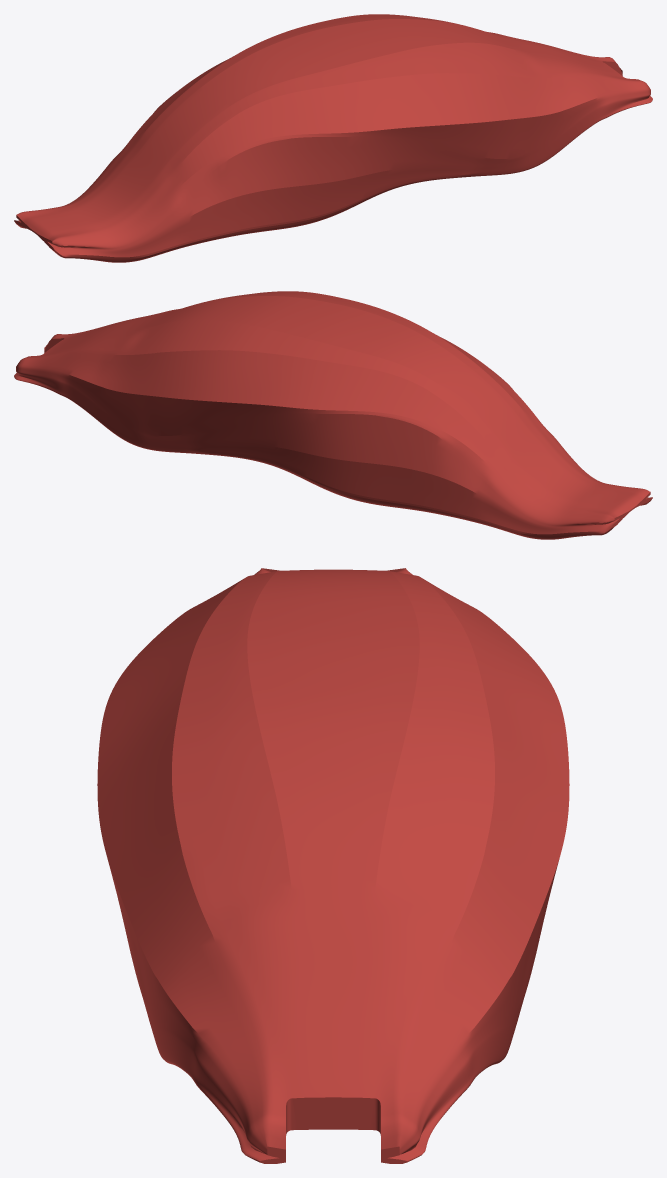
File: sports_tourer_1.glb
3 views of the same model, one above another, from view 1: azimuth 30°, elevation 25°; view 2: azimuth 150°, elevation 25°; view 3: azimuth 270°, elevation 25° (orthographic). The views are drawn at different scales.
Parts seen in each view (by area): view 1: sports_tourer_1; view 2: sports_tourer_1; view 3: sports_tourer_1.
Boxes of the visible parts, <box> form: sports_tourer_1: <box>14,14,652,262</box>; sports_tourer_1: <box>14,291,652,539</box>; sports_tourer_1: <box>97,568,569,1163</box>.
Bounding box in the file's own units: 1.33 × 0.2991 × 0.4531.
